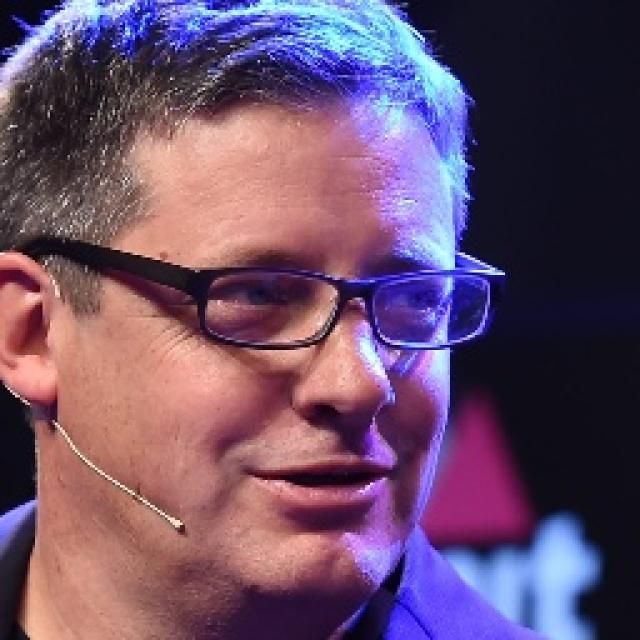earlobe: (18, 355, 59, 407)
eye: (211, 280, 291, 312), (380, 282, 438, 315)
nose: (295, 397, 412, 461)
wholeear: (0, 251, 60, 407)
